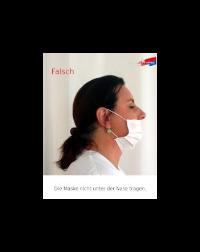mask_weared_incorrect: (119, 98, 148, 154)
